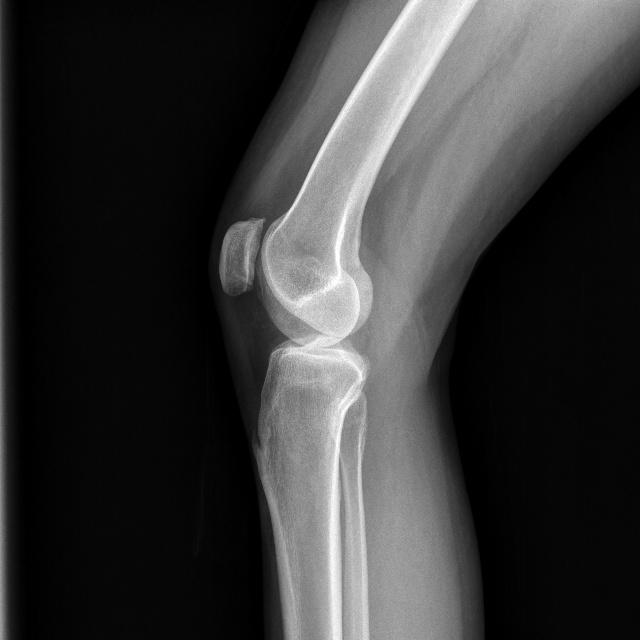Knee: (215, 212, 374, 401)
